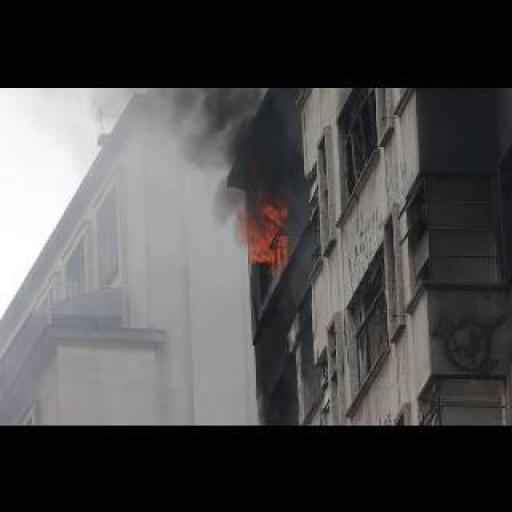smoke: (173, 87, 291, 201), (242, 188, 290, 274)
